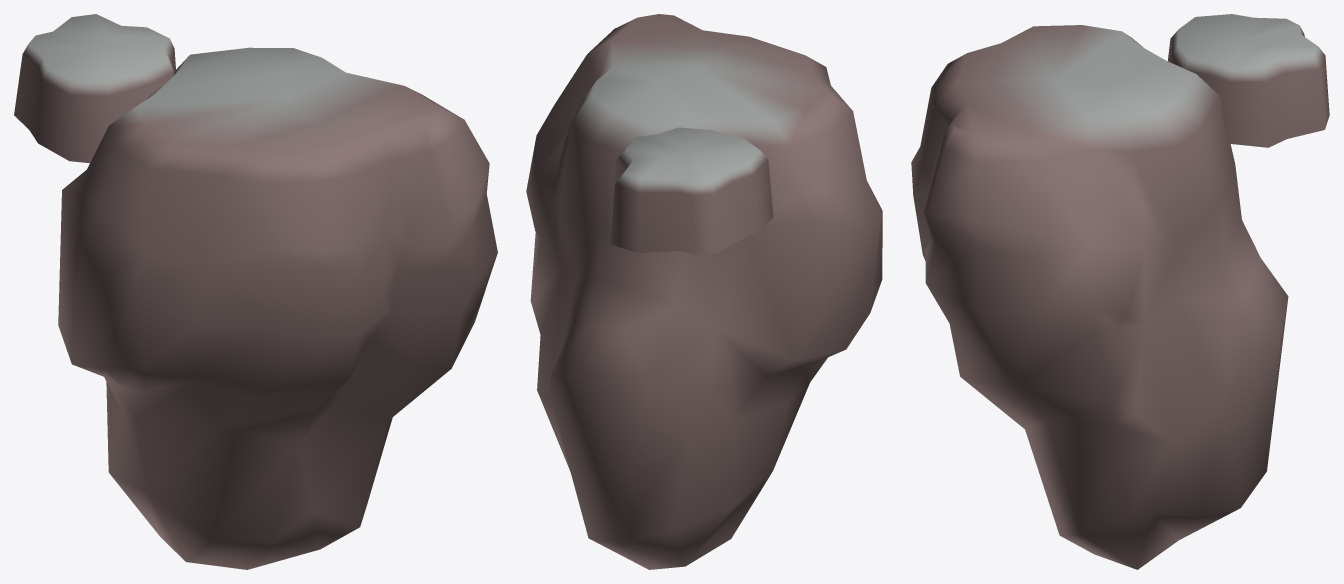
3 views of the same model, side by side, from view 1: azimuth 30°, elevation 25°; view 2: azimuth 150°, elevation 25°; view 3: azimuth 270°, elevation 25° (orthographic). The views are drawn at different scales.
Visible parts, largest first — view 1: G:\FFXIV-MapTools\exports\u5f1\bg\ex4\04_uvs_u5\fld\u5f1\bgp (×2); view 2: G:\FFXIV-MapTools\exports\u5f1\bg\ex4\04_uvs_u5\fld\u5f1\bgp (×2); view 3: G:\FFXIV-MapTools\exports\u5f1\bg\ex4\04_uvs_u5\fld\u5f1\bgp (×2).
Boxes of the visible parts, x1,y1,x2,y2 form: G:\FFXIV-MapTools\exports\u5f1\bg\ex4\04_uvs_u5\fld\u5f1\bgp (×2): [14, 14, 497, 569]; G:\FFXIV-MapTools\exports\u5f1\bg\ex4\04_uvs_u5\fld\u5f1\bgp (×2): [526, 14, 882, 569]; G:\FFXIV-MapTools\exports\u5f1\bg\ex4\04_uvs_u5\fld\u5f1\bgp (×2): [911, 14, 1329, 569].
Bounding box in the file's own units: 10.89 × 13.86 × 11.26.
